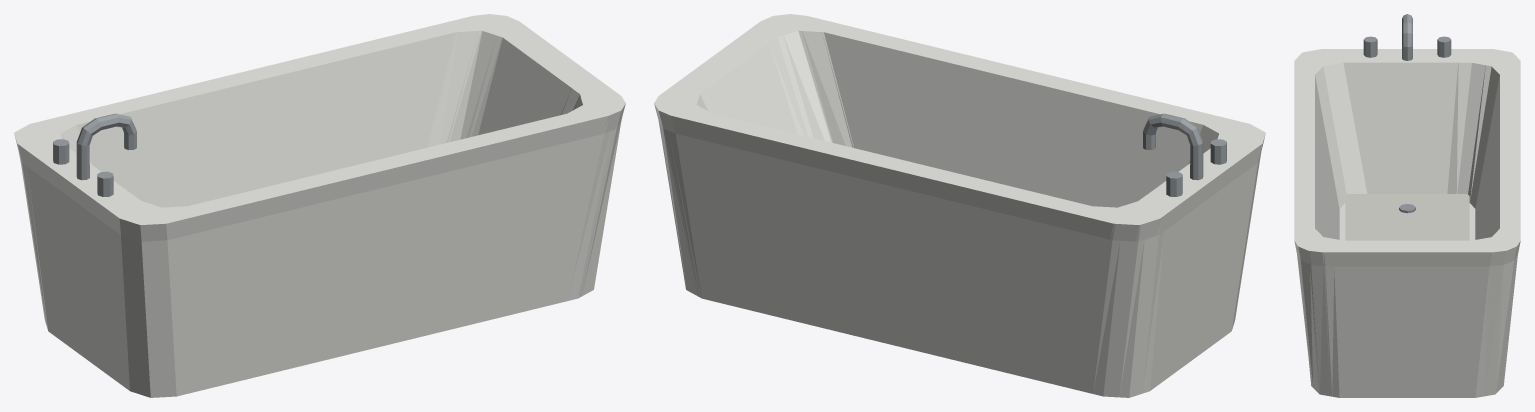
Rendered from baignoire.glb.
3 views of the same model, side by side, from view 1: azimuth 30°, elevation 25°; view 2: azimuth 150°, elevation 25°; view 3: azimuth 270°, elevation 25° (orthographic). The views are drawn at different scales.
Visible parts, largest first — view 1: shell, tap, knobs; view 2: shell, tap, knobs; view 3: shell, lining, knobs, tap.
Part boxes in pixels (<box>): shell: <box>14,14,625,397</box>; tap: <box>76,113,136,180</box>; knobs: <box>53,139,113,196</box>; shell: <box>654,14,1265,397</box>; tap: <box>1143,113,1203,180</box>; knobs: <box>1166,139,1226,196</box>; shell: <box>1294,49,1520,397</box>; lining: <box>1345,194,1469,240</box>; knobs: <box>1363,36,1451,57</box>; tap: <box>1402,14,1412,60</box>.
Bounding box in the file's own units: 1.7 × 0.7796 × 0.8.
Materials: 3 (3 with a texture image).
